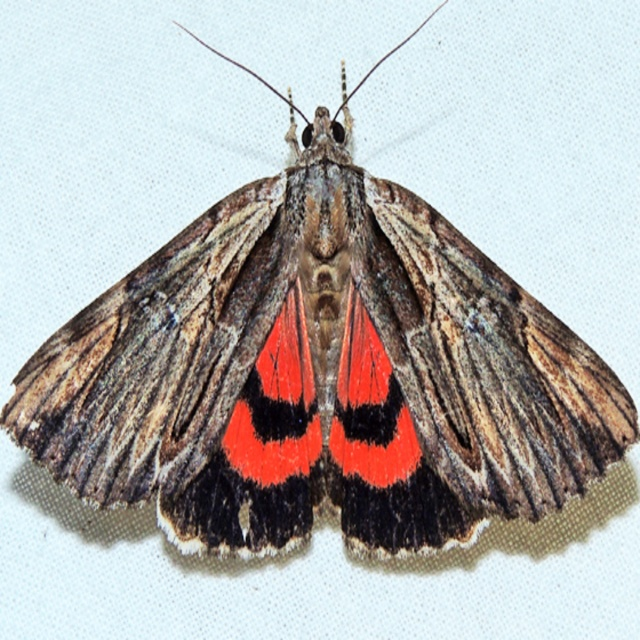Butterfly: (3, 6, 634, 584)
